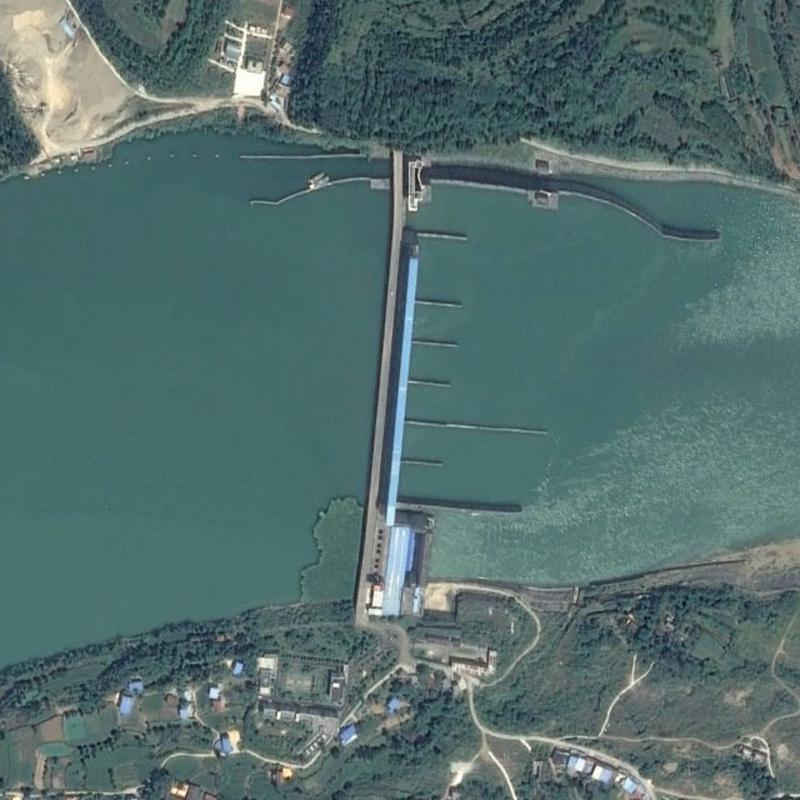dam: (350, 149, 552, 626)
